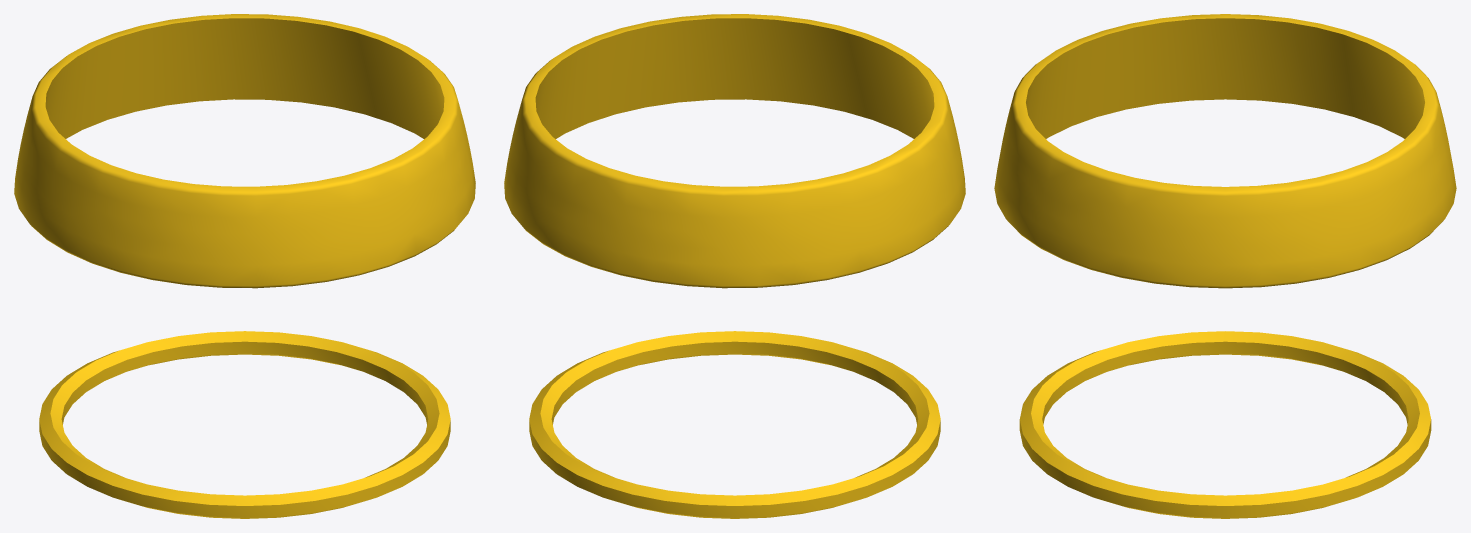
Rendered from EV_BombStripe.fbx.
3 renders of one model, left to right at view 1: azimuth 30°, elevation 25°; view 2: azimuth 150°, elevation 25°; view 3: azimuth 270°, elevation 25°, orthographic.
Parts seen in each view (by area): view 1: EV_BombStripe; view 2: EV_BombStripe; view 3: EV_BombStripe.
Part boxes in pixels (box(x1,y1,x2,y2)): EV_BombStripe: box(14, 14, 475, 518); EV_BombStripe: box(504, 14, 965, 518); EV_BombStripe: box(994, 14, 1456, 518).
Bounding box in the file's own units: 1.5 × 1.2 × 1.5.
